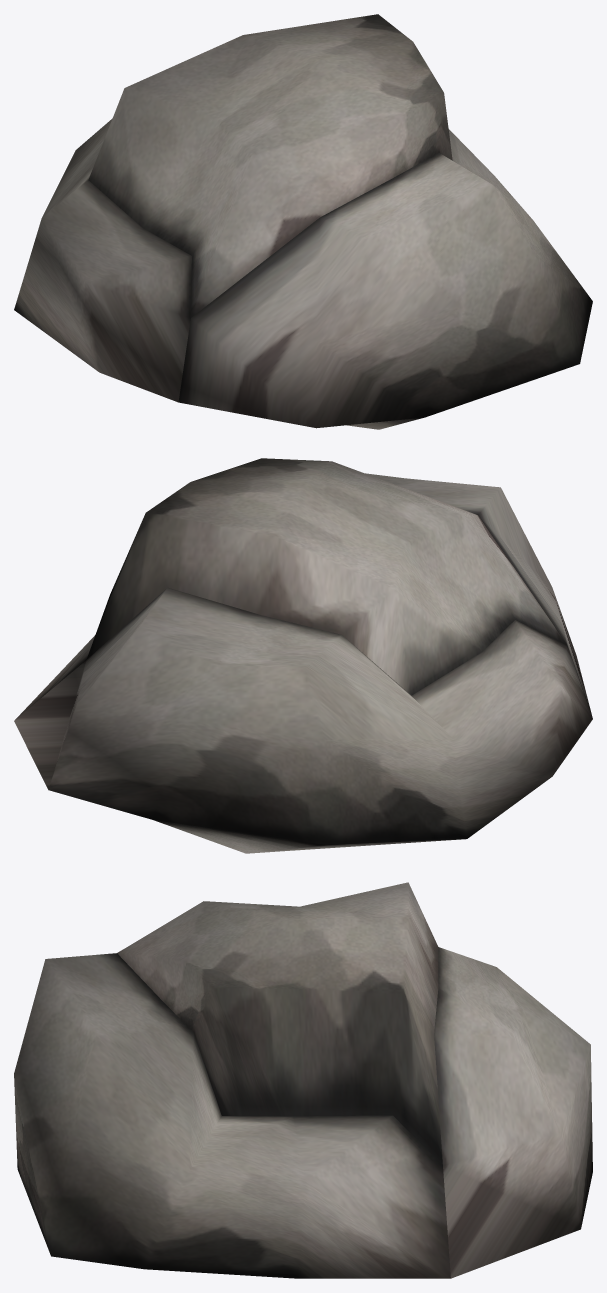
Rendered from rock_plain_3m.DAE.
3 renders of one model, top to bottom at view 1: azimuth 30°, elevation 25°; view 2: azimuth 150°, elevation 25°; view 3: azimuth 270°, elevation 25°, orthographic. The views are drawn at different scales.
Visible parts, largest first — view 1: Box01; view 2: Box01; view 3: Box01.
Boxes of the visible parts, box(x1,y1,x2,y2) form: Box01: box(14, 14, 592, 429); Box01: box(14, 458, 592, 853); Box01: box(14, 882, 592, 1278).
Bounding box in the file's own units: 3.52 × 2.33 × 3.65.
